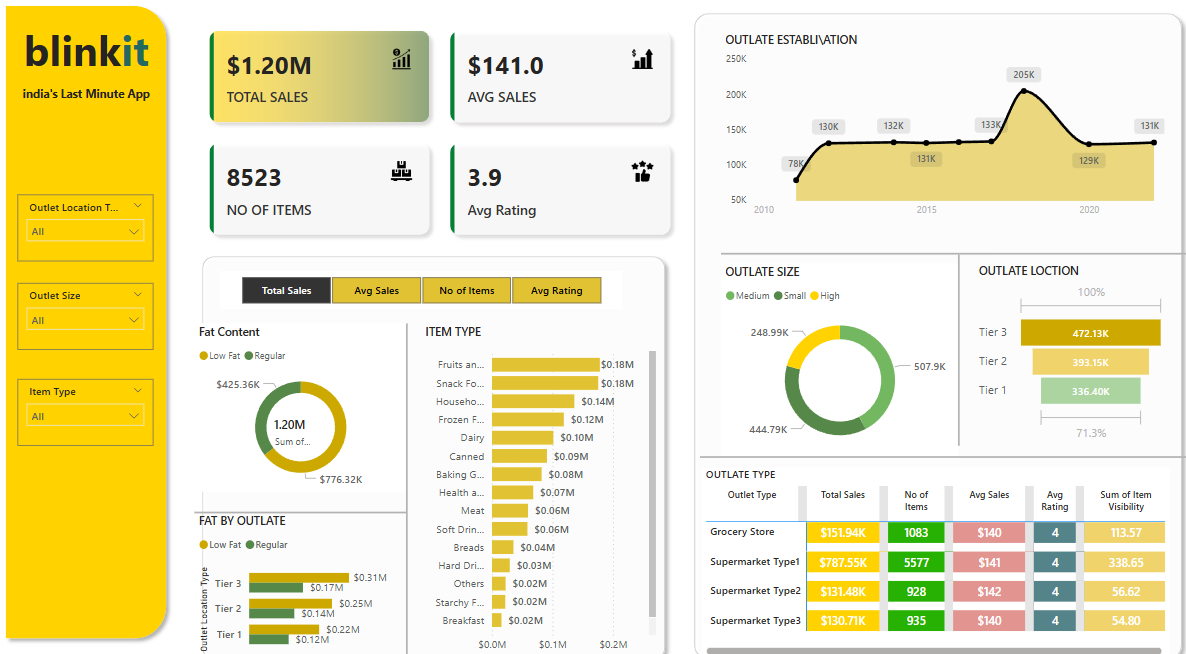

This screenshot's page, from the dashboard's own definition file:
{"tool":"powerbi","page":{"name":"Page 1","canvas":[1400,800],"ordinal":0},"visuals":[{"type":"shape","box":[0,24.4,203.8,750.9],"z":0},{"type":"textbox","box":[12.2,45.2,180.6,74.7],"z":1000},{"type":"textbox","box":[15.5,119.6,172.8,39.9],"z":2000},{"type":"cardVisual","fields":{"Data":["BlinkIT Grocery Data.Total Sales","BlinkIT Grocery Data.Avg Sales","BlinkIT Grocery Data.No of Items","BlinkIT Grocery Data.Avg Rating"]},"box":[228.2,44.3,569.3,270.3],"z":3000},{"type":"shape","box":[228.2,314.6,553.8,485.1],"z":4000},{"type":"donutChart","title":"Fat Content","fields":{"Y":["BlinkIT Grocery Data.Total Sales"],"Category":["BlinkIT Grocery Data.Item Fat Content"]},"box":[228.2,400.9,245.9,194.9],"z":5000},{"type":"slicer","fields":{"Values":["Metrics.Metrics"]},"box":[257,341.1,465.2,44.3],"z":6000},{"type":"cardVisual","fields":{"Data":["Sum(BlinkIT Grocery Data.Sales)"]},"box":[296.8,491.8,82,66.5],"z":7000},{"type":"clusteredBarChart","title":"FAT BY OUTLATE","fields":{"Y":["BlinkIT Grocery Data.Total Sales"],"Category":["BlinkIT Grocery Data.Outlet Location Type"],"Series":["BlinkIT Grocery Data.Item Fat Content"]},"box":[228.2,620.3,228.2,179.4],"z":8000},{"type":"shape","box":[228.2,607,245.9,24.4],"z":9000},{"type":"shape","box":[456.3,400.9,33.2,389.9],"z":10000},{"type":"barChart","title":"ITEM TYPE","fields":{"Y":["BlinkIT Grocery Data.Total Sales"],"Category":["BlinkIT Grocery Data.Item Type"]},"box":[489.6,400.9,276.9,389.9],"z":11000},{"type":"shape","box":[797.5,33.2,582.6,766.5],"z":12000},{"type":"lineChart","title":"OUTLATE ESTABLI\\ATION","fields":{"Y":["Sum(BlinkIT Grocery Data.Sales)"],"Category":["BlinkIT Grocery Data.Outlet Establishment Year"]},"box":[837.3,62,518.4,223.7],"z":13000},{"type":"shape","box":[837.3,301.3,542.7,39.9],"z":14000},{"type":"donutChart","title":"OUTLATE SIZE","fields":{"Y":["Sum(BlinkIT Grocery Data.Sales)"],"Category":["BlinkIT Grocery Data.Outlet Size"]},"box":[837.3,332.3,274.7,225.9],"z":15000},{"type":"shape","box":[1096.5,321.2,33.2,221.5],"z":16000},{"type":"funnel","title":"OUTLATE LOCTION","fields":{"Y":["Sum(BlinkIT Grocery Data.Sales)"],"Category":["BlinkIT Grocery Data.Outlet Location Type"]},"box":[1129.7,330.1,225.9,212.7],"z":17000},{"type":"shape","box":[813,542.7,567.1,24.4],"z":18000},{"type":"pivotTable","title":"OUTLATE TYPE","fields":{"Rows":["BlinkIT Grocery Data.Outlet Type"],"Values":["BlinkIT Grocery Data.Total Sales","BlinkIT Grocery Data.No of Items","BlinkIT Grocery Data.Avg Sales","BlinkIT Grocery Data.Avg Rating","Sum(BlinkIT Grocery Data.Item Visibility)"]},"box":[814.5,567.9,541.8,222.3],"z":19000},{"type":"slicer","fields":{"Values":["BlinkIT Grocery Data.Outlet Location Type"]},"box":[22.2,252.5,157.3,77.5],"z":20000},{"type":"slicer","fields":{"Values":["BlinkIT Grocery Data.Outlet Size"]},"box":[22.2,354.4,157.3,77.5],"z":21000},{"type":"slicer","fields":{"Values":["BlinkIT Grocery Data.Item Type"]},"box":[22.2,465.2,157.3,77.5],"z":22000}]}

Visuals, with their boxes on the page's 1400x800 design canvas (x1, y1, x2, y2). These are canvas units, not pixel positions in the 1186x654 screenshot, which may show the page scaled, cropped or inside an application window:
shape: {"x1": 0, "y1": 24, "x2": 204, "y2": 775}
textbox: {"x1": 12, "y1": 45, "x2": 193, "y2": 120}
textbox: {"x1": 16, "y1": 120, "x2": 188, "y2": 160}
cardVisual - BlinkIT Grocery Data.Total Sales x BlinkIT Grocery Data.Avg Sales: {"x1": 228, "y1": 44, "x2": 798, "y2": 315}
shape: {"x1": 228, "y1": 315, "x2": 782, "y2": 800}
"Fat Content" donutChart: {"x1": 228, "y1": 401, "x2": 474, "y2": 596}
slicer - Metrics.Metrics: {"x1": 257, "y1": 341, "x2": 722, "y2": 385}
cardVisual - Sum(BlinkIT Grocery Data.Sales): {"x1": 297, "y1": 492, "x2": 379, "y2": 558}
"FAT BY OUTLATE" clusteredBarChart: {"x1": 228, "y1": 620, "x2": 456, "y2": 800}
shape: {"x1": 228, "y1": 607, "x2": 474, "y2": 631}
shape: {"x1": 456, "y1": 401, "x2": 490, "y2": 791}
"ITEM TYPE" barChart: {"x1": 490, "y1": 401, "x2": 766, "y2": 791}
shape: {"x1": 798, "y1": 33, "x2": 1380, "y2": 800}
"OUTLATE ESTABLI\ATION" lineChart: {"x1": 837, "y1": 62, "x2": 1356, "y2": 286}
shape: {"x1": 837, "y1": 301, "x2": 1380, "y2": 341}
"OUTLATE SIZE" donutChart: {"x1": 837, "y1": 332, "x2": 1112, "y2": 558}
shape: {"x1": 1096, "y1": 321, "x2": 1130, "y2": 543}
"OUTLATE LOCTION" funnel: {"x1": 1130, "y1": 330, "x2": 1356, "y2": 543}
shape: {"x1": 813, "y1": 543, "x2": 1380, "y2": 567}
"OUTLATE TYPE" pivotTable: {"x1": 814, "y1": 568, "x2": 1356, "y2": 790}
slicer - BlinkIT Grocery Data.Outlet Location Type: {"x1": 22, "y1": 252, "x2": 180, "y2": 330}
slicer - BlinkIT Grocery Data.Outlet Size: {"x1": 22, "y1": 354, "x2": 180, "y2": 432}
slicer - BlinkIT Grocery Data.Item Type: {"x1": 22, "y1": 465, "x2": 180, "y2": 543}
